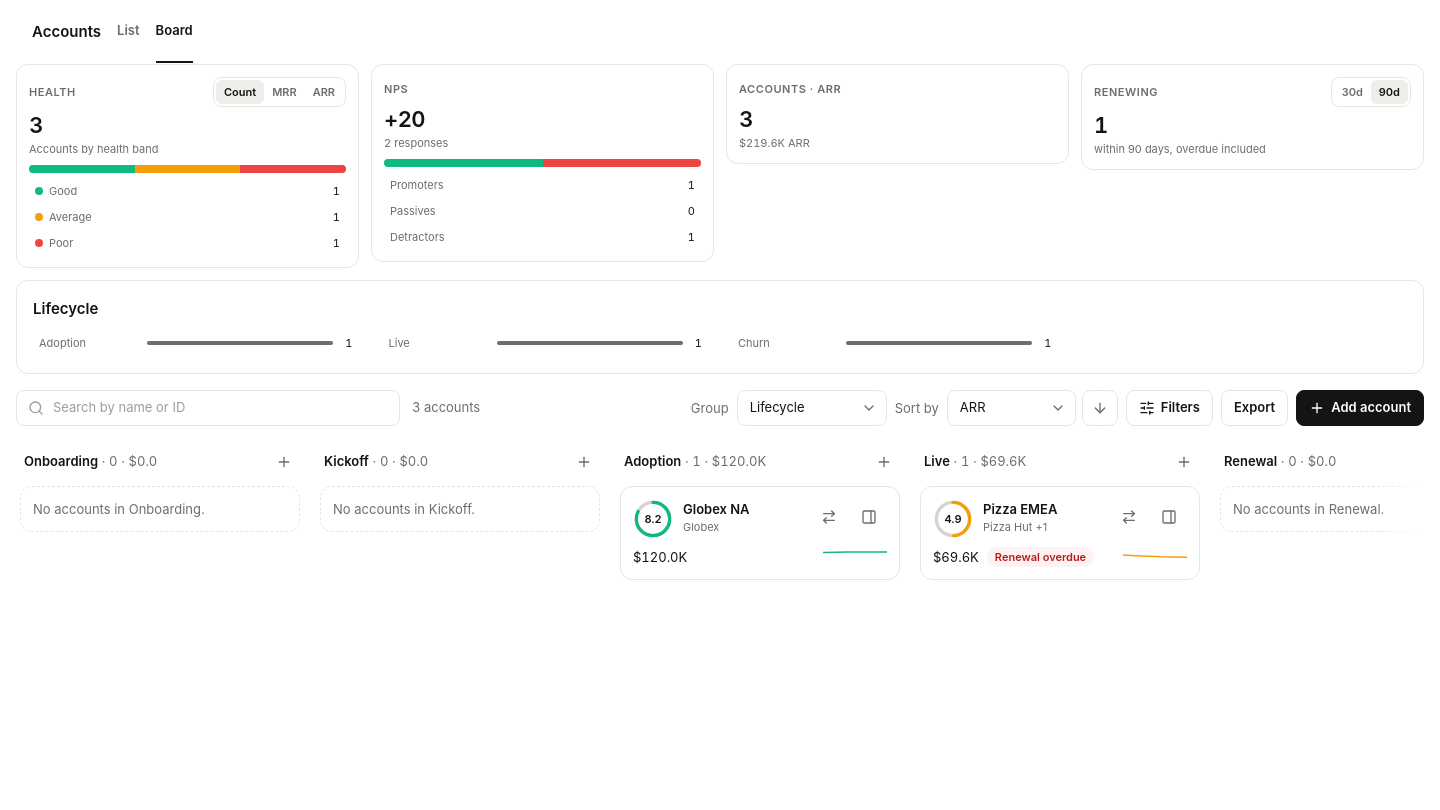
Test case: Accounts board (portfolio) › puts a card back, with the server's reason, when the save fails
Check: the link "Pizza EMEA" is shown, box [983, 501, 1057, 517]
Click the button named "Move Pizza EMEA to…".
click(1129, 517)  # box [1111, 499, 1147, 535]
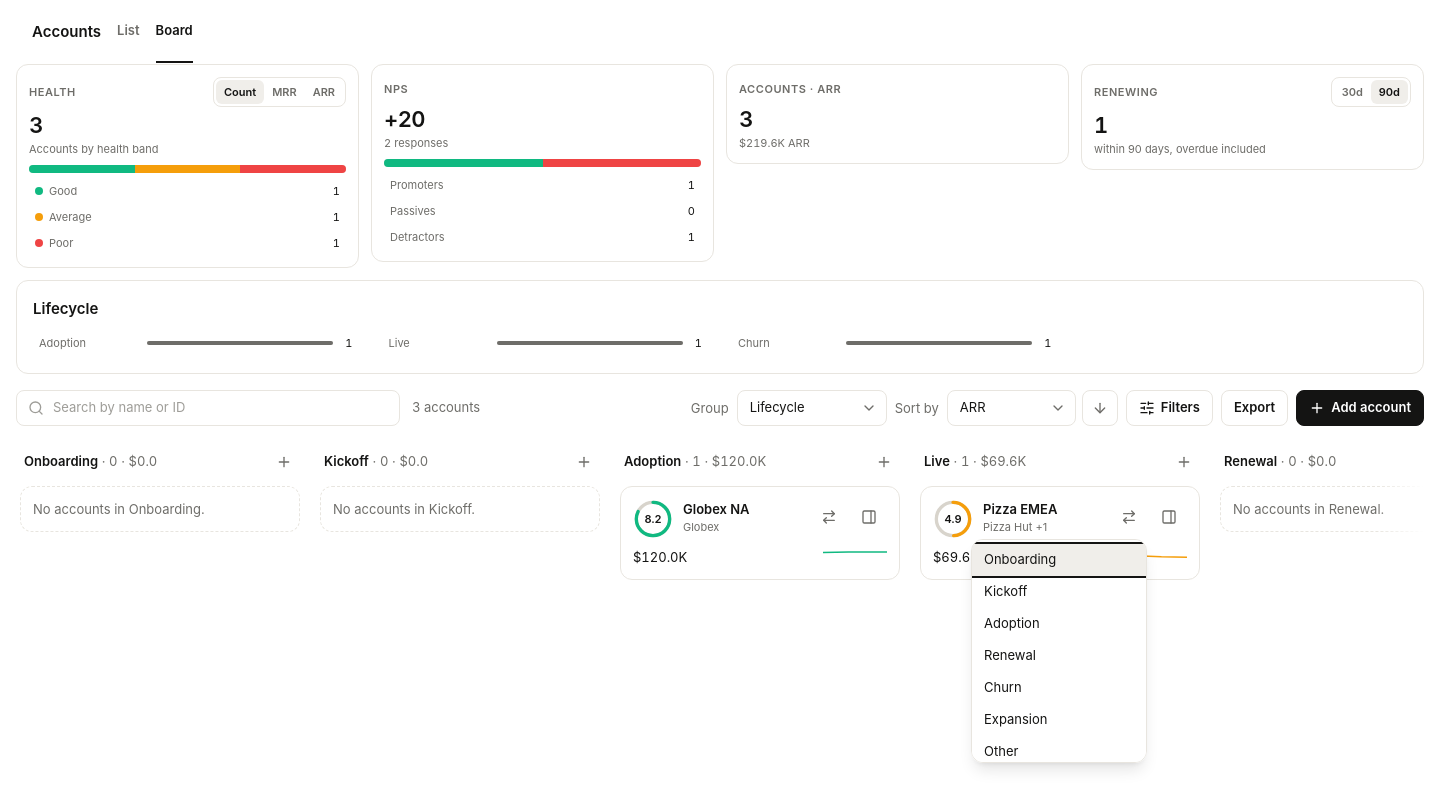
Click the menu item "Adoption".
click(1059, 624)  # box [972, 608, 1146, 640]
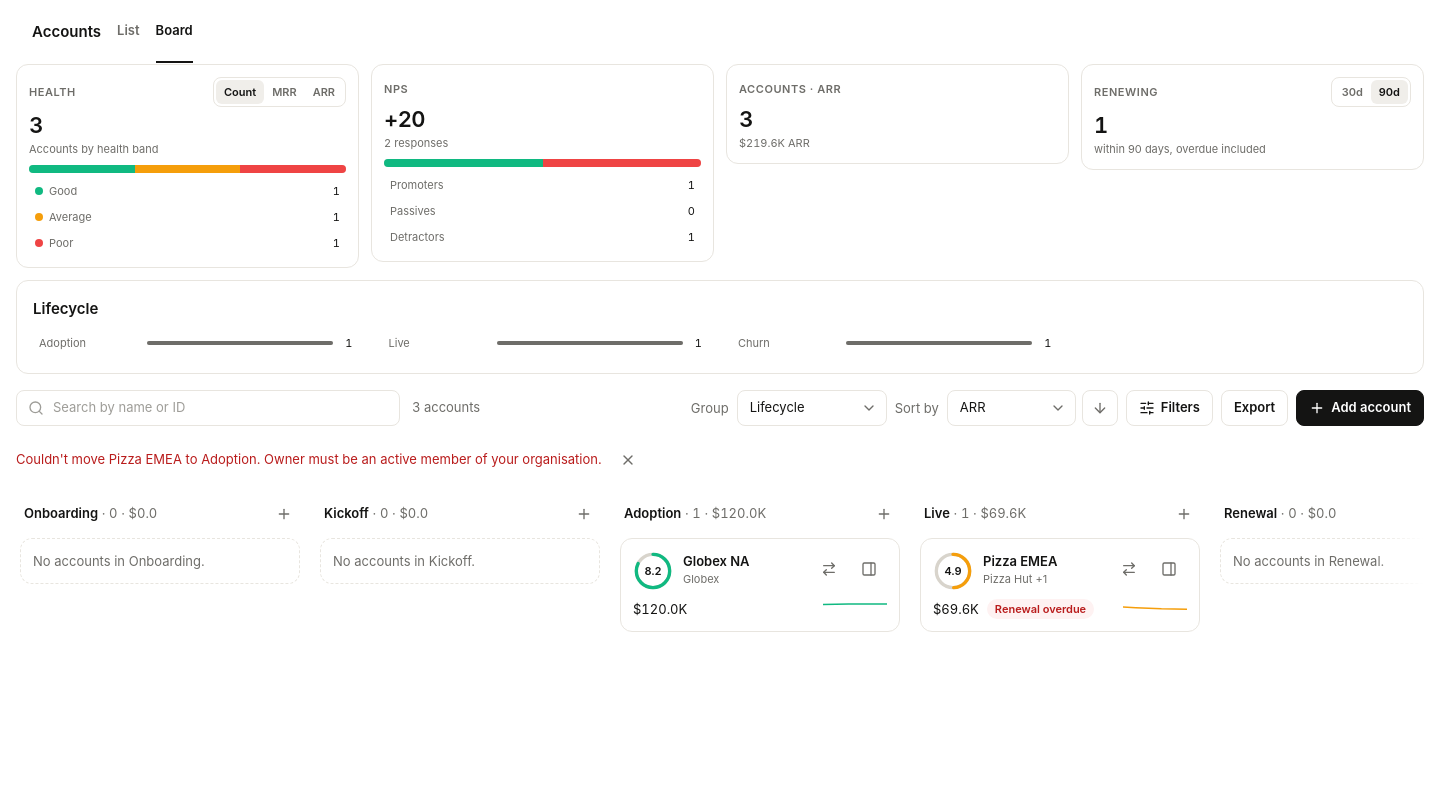
Check: the list item "4.9 Pizza EMEA Pizza Hut +1 $69.6K Renewal overdue" is shown, box [920, 538, 1200, 632]
Check: the text "Couldn't move Pizza EMEA to Adoption. Owner must be an active member of your organisation." is shown, box [16, 451, 602, 467]
